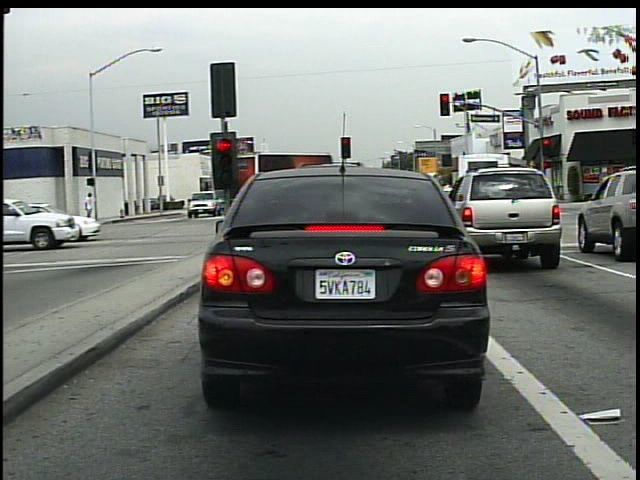person: (83, 190, 96, 219)
